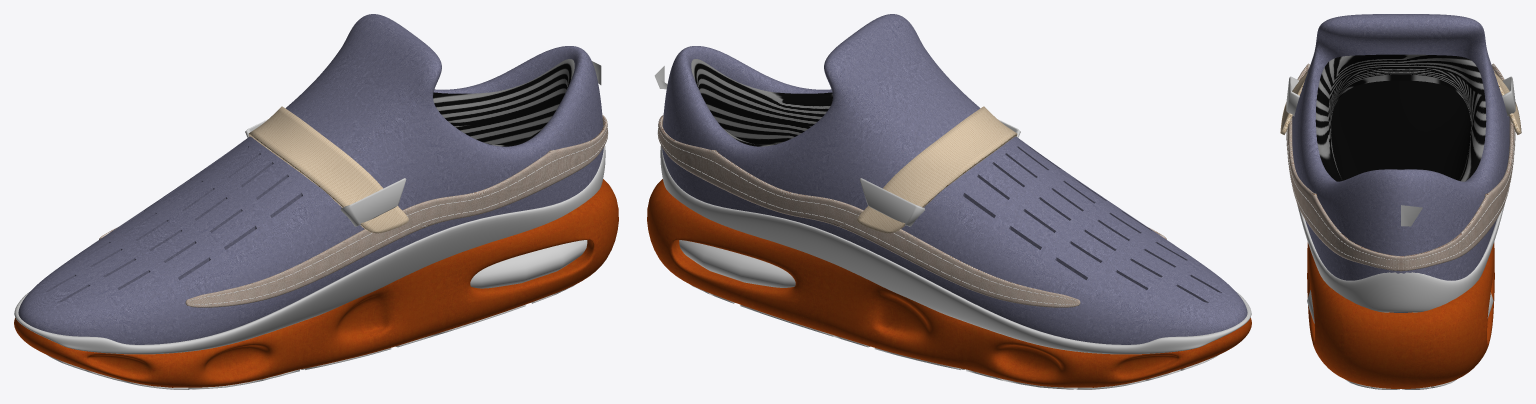
The model's file is shoe.gltf.
The picture shows the model from 3 angles, left to right: view 1: azimuth 30°, elevation 25°; view 2: azimuth 150°, elevation 25°; view 3: azimuth 270°, elevation 25°; orthographic projection. The views are drawn at different scales.
Visible parts, largest first — view 1: upper, tredbase, uppersole, strapper, upper.001, stlee.002, Sphere, strap, soleouter, strapper.001; view 2: upper, tredbase, uppersole, strapper, upper.001, stlee.002, Sphere, strap, soleouter, strapper.001; view 3: upper, upper.001, tredbase, strapper, uppersole, strap, strapper.001, stlee.002, backstrapo, soleouter.
Boxes of the visible parts, box(x1,y1,x2,y2) form: upper: box(18, 14, 603, 344); tredbase: box(14, 179, 618, 387); uppersole: box(14, 145, 605, 354); strapper: box(99, 115, 607, 307); upper.001: box(433, 59, 574, 146); stlee.002: box(248, 106, 408, 233); Sphere: box(470, 240, 587, 288); strap: box(245, 119, 406, 226); soleouter: box(46, 284, 575, 389); strapper.001: box(190, 124, 608, 304); upper: box(662, 14, 1247, 344); tredbase: box(647, 179, 1251, 387); uppersole: box(660, 145, 1251, 354); strapper: box(658, 115, 1166, 307); upper.001: box(691, 59, 832, 146); stlee.002: box(857, 106, 1017, 233); Sphere: box(679, 240, 795, 287); strap: box(859, 119, 1020, 226); soleouter: box(690, 284, 1219, 389); strapper.001: box(657, 124, 1075, 304); upper: box(1292, 14, 1509, 312); upper.001: box(1315, 54, 1486, 181); tredbase: box(1307, 242, 1494, 388); strapper: box(1286, 63, 1515, 271); uppersole: box(1297, 203, 1504, 312); strap: box(1286, 76, 1515, 116); strapper.001: box(1286, 65, 1515, 268); stlee.002: box(1280, 72, 1521, 134); backstrapo: box(1401, 205, 1422, 226); soleouter: box(1345, 379, 1456, 389).
Bounding box in the file's own units: 4.07 × 1.89 × 1.36.
